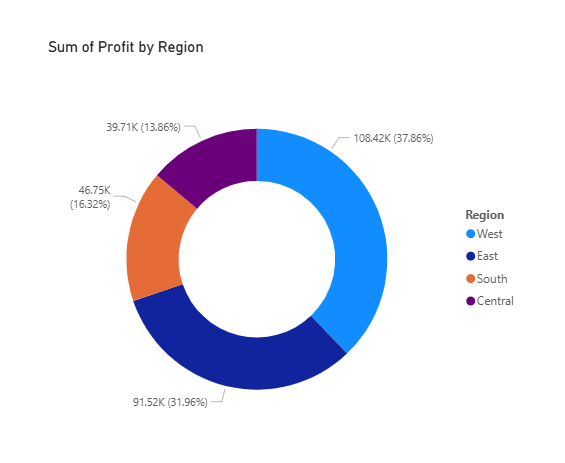

The dashboard page shown, as its layout file describes it:
{"tool":"powerbi","page":{"name":"Q7","canvas":[1280,720],"ordinal":6},"visuals":[{"type":"donutChart","fields":{"Category":["Orders.Region"],"Y":["Sum(Orders.Profit)"]},"box":[323.7,109,546.5,479.8],"z":0}]}

Visuals, with their boxes on the page's 1280x720 design canvas (x1, y1, x2, y2). These are canvas units, not pixel positions in the 565x463 screenshot, which may show the page scaled, cropped or inside an application window:
donutChart - Orders.Region x Sum(Orders.Profit): (324,109,870,589)
